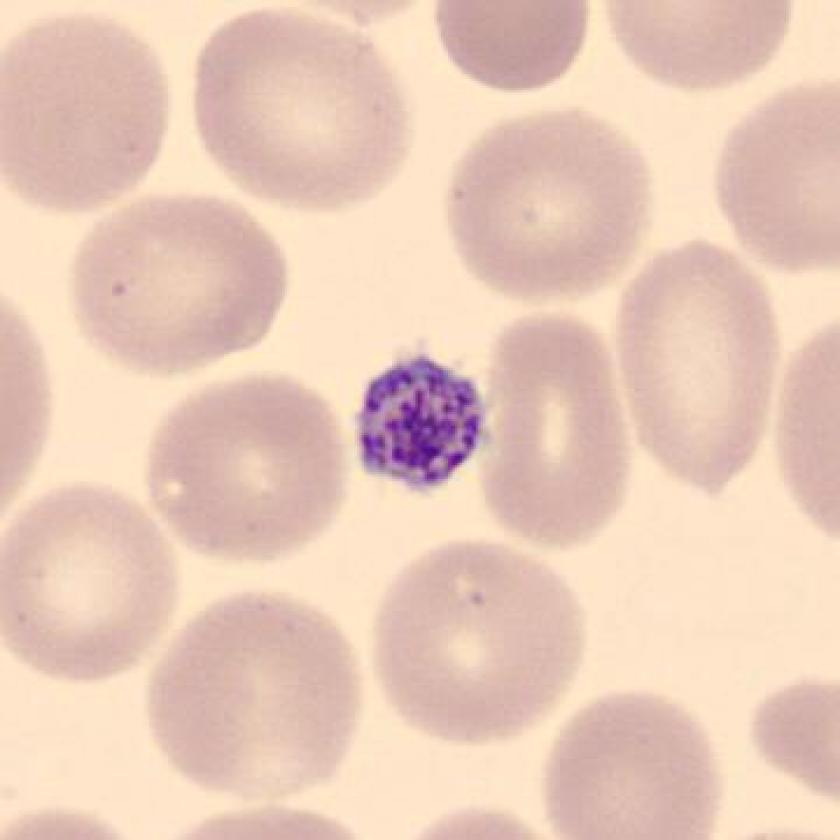platelets: (349, 344, 491, 496)
